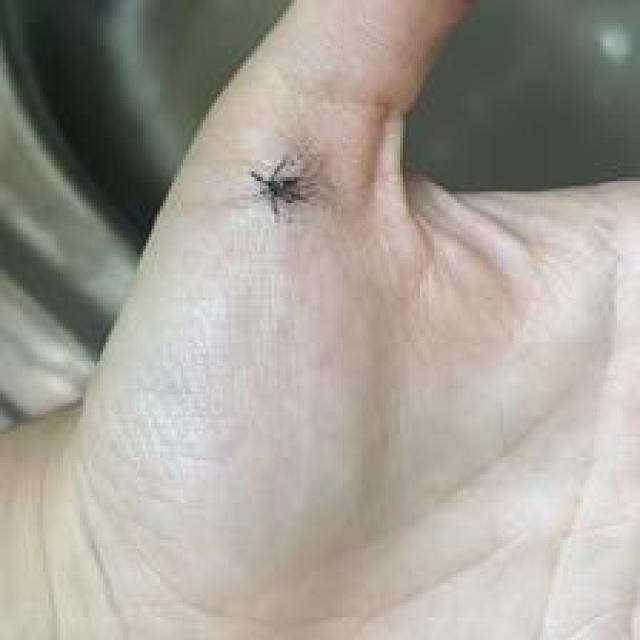Aedes albopictus: (249, 154, 317, 217)
